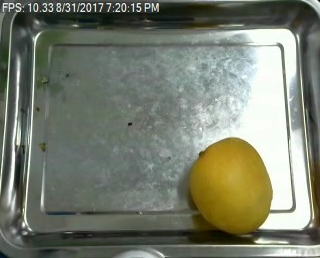Mango: (186, 136, 271, 235)
